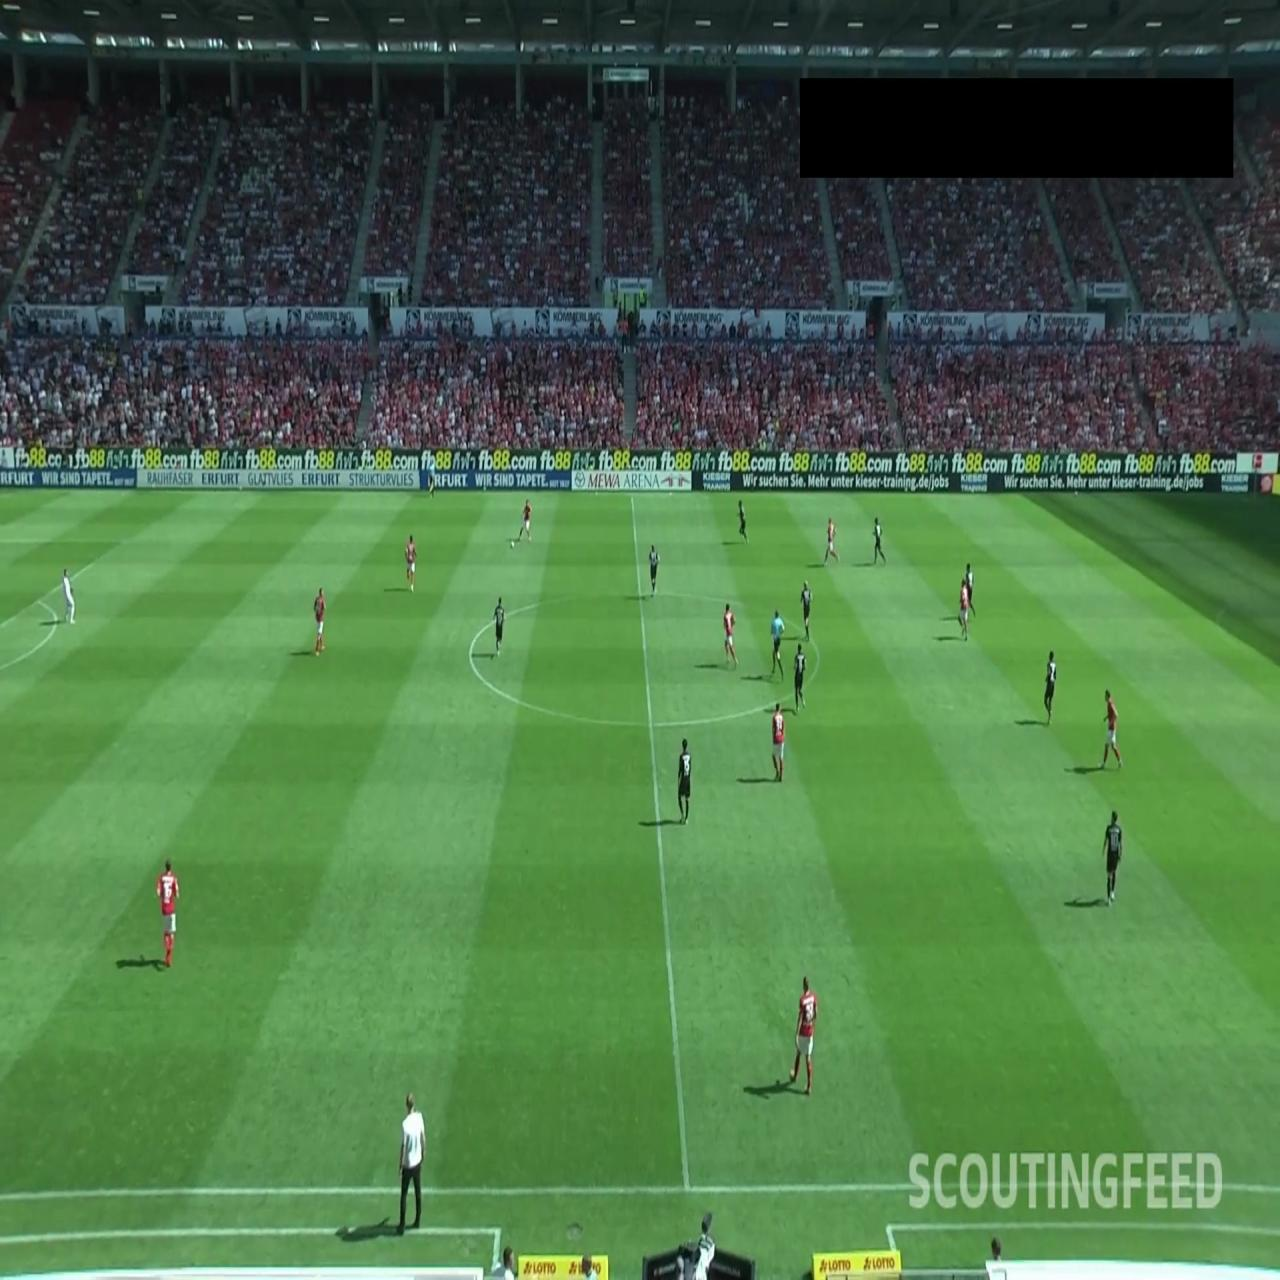ball: (510, 539, 516, 550)
goalkeeper: (62, 566, 76, 624)
player: (789, 976, 817, 1095), (156, 858, 180, 968), (1101, 810, 1123, 906), (1100, 689, 1123, 770), (678, 737, 692, 825), (771, 702, 786, 782), (1043, 650, 1057, 726), (722, 602, 738, 667), (793, 642, 807, 712), (313, 588, 326, 655), (958, 580, 971, 640), (824, 516, 840, 564), (492, 596, 504, 657), (872, 517, 887, 565), (405, 533, 417, 593), (517, 499, 533, 543), (801, 580, 812, 640), (964, 562, 975, 617), (649, 544, 659, 597), (737, 499, 748, 543)
referee: (769, 608, 785, 680), (427, 453, 436, 499)
